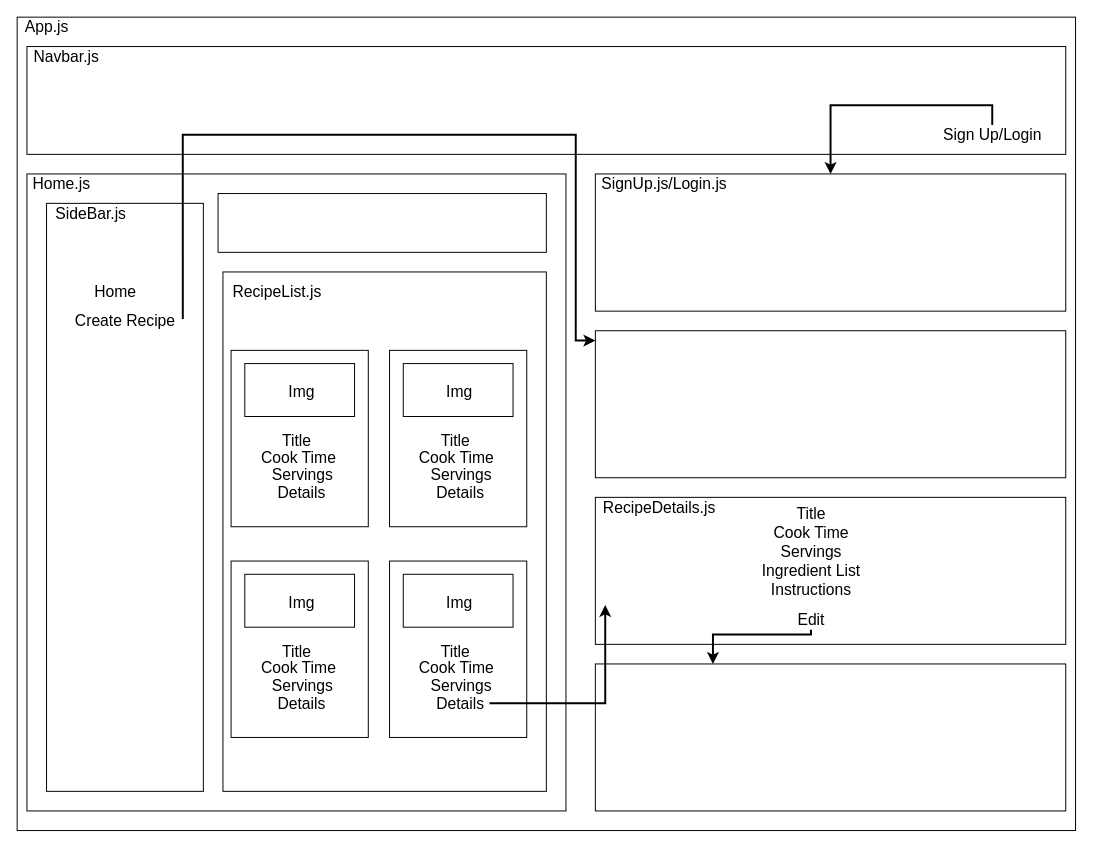
The diagram is 1093 pixels wide and 848 high, and some of its shapes have lost their labels. The shapes that lost their labels are listed below. From the top down, each one's centre as x and y in pixels, then its label:
At point (381, 222): "FilterCategory.js".
At point (830, 404): "CreateRecipe.js".
At point (830, 737): "EditRecipe.js".
